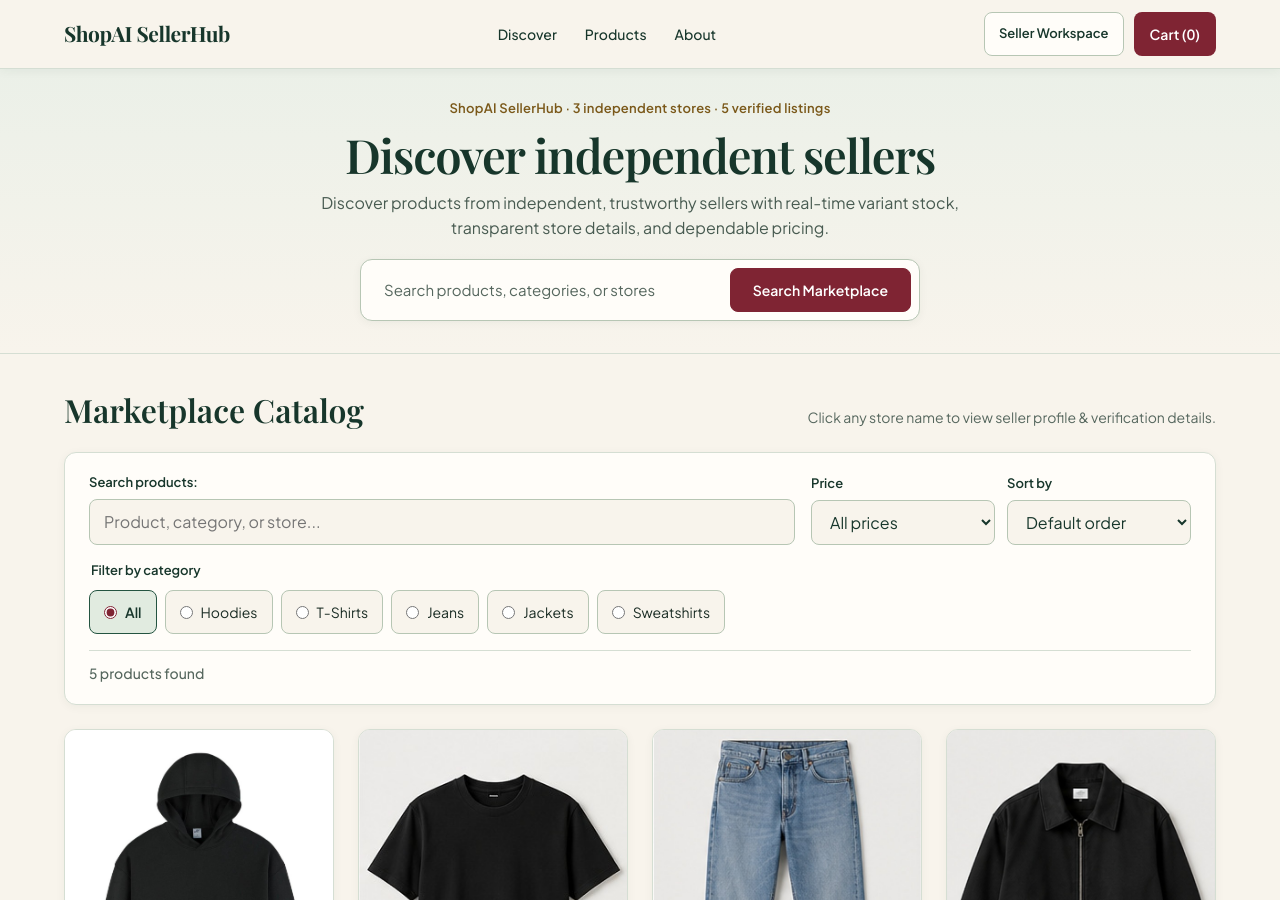
Test: Product catalog › shows a message when no products match
This screenshot has width=1280, height=900.
Type "zzzz-no-match-12345" into the search field labelled "Search products:". click: x=442, y=522
box: [89,499,795,545]
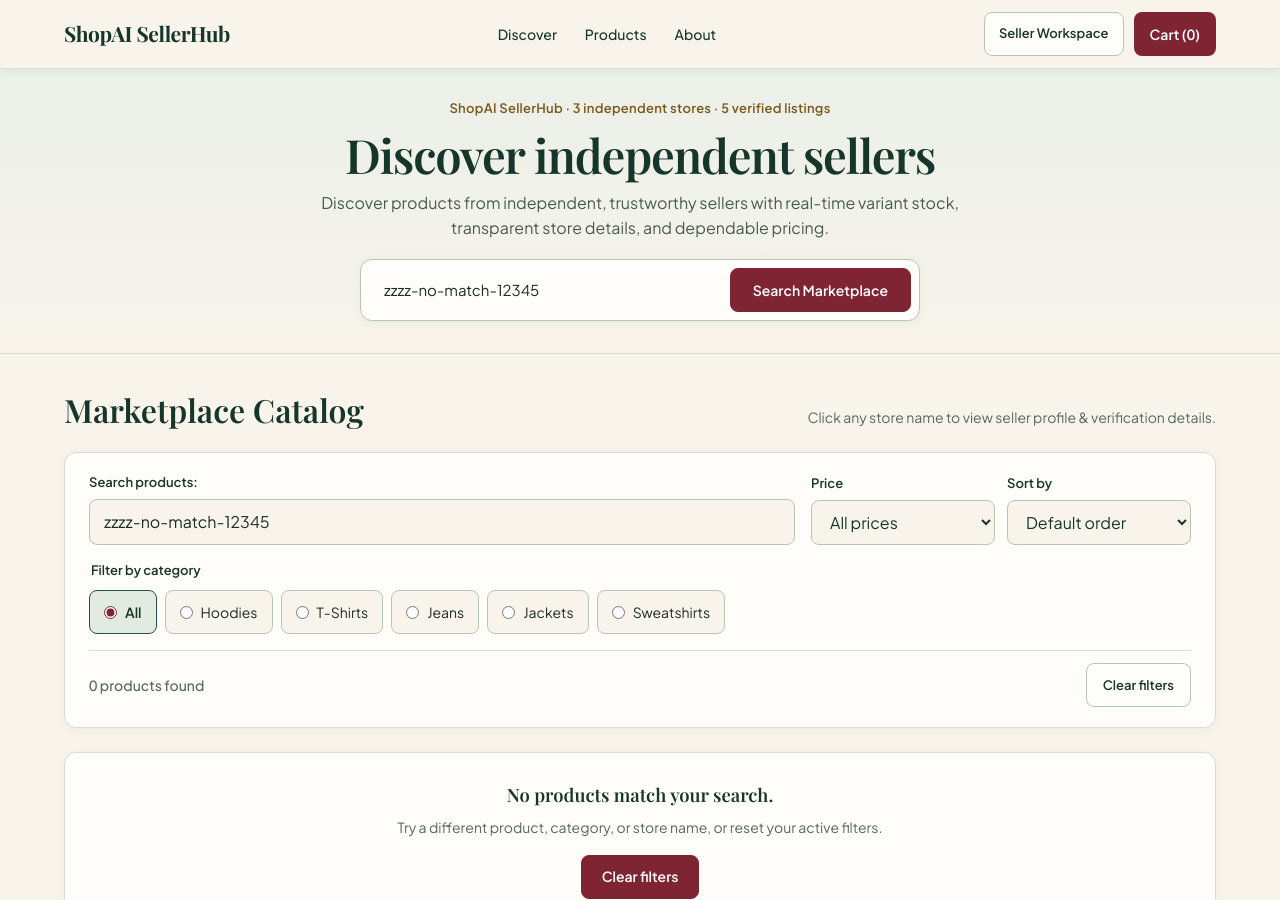
Now the text "No products match your search." is shown, box [507,782,773,808]
Now the text "0 products found" is shown, box [89,675,204,696]
